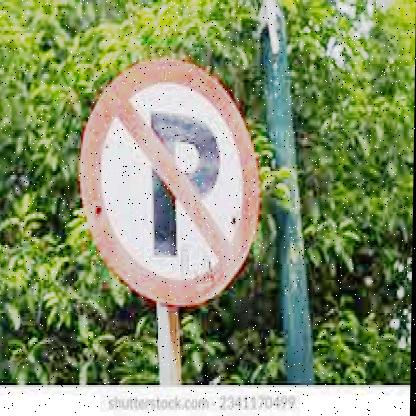No parking: (81, 51, 266, 307)
